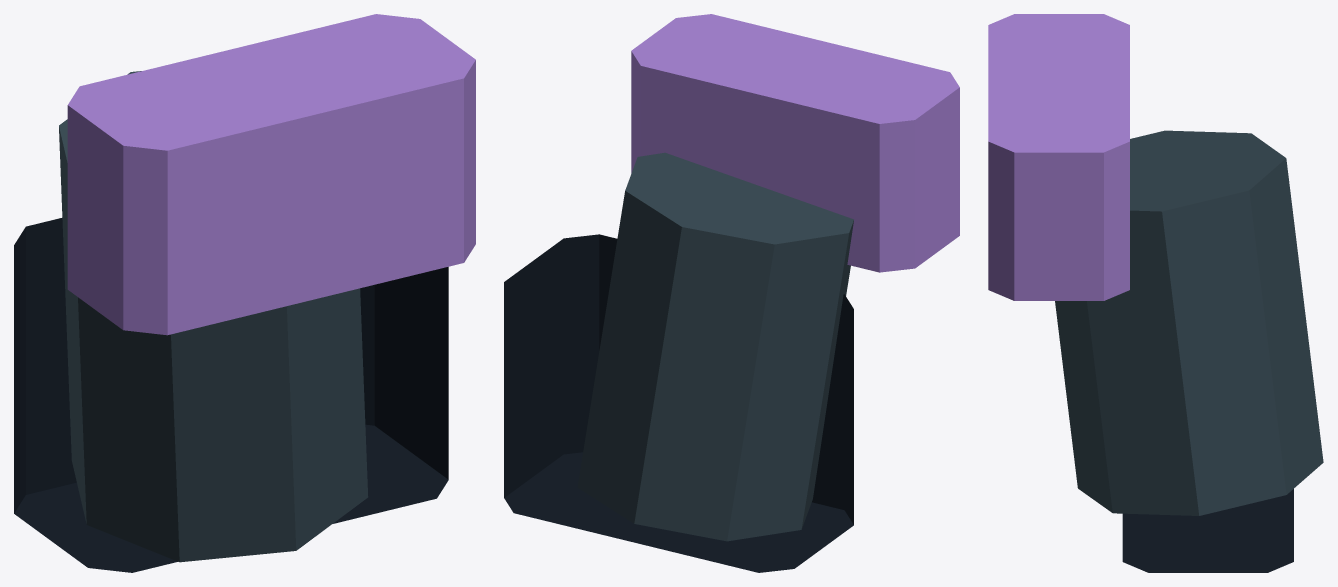
The model's file is enemy_tank_lod_shin_l.obj.
3 renders of one model, left to right at view 1: azimuth 30°, elevation 25°; view 2: azimuth 150°, elevation 25°; view 3: azimuth 270°, elevation 25°, orthographic. The views are drawn at different scales.
Bounding box in the file's own units: 0.51 × 0.59 × 0.4499.
